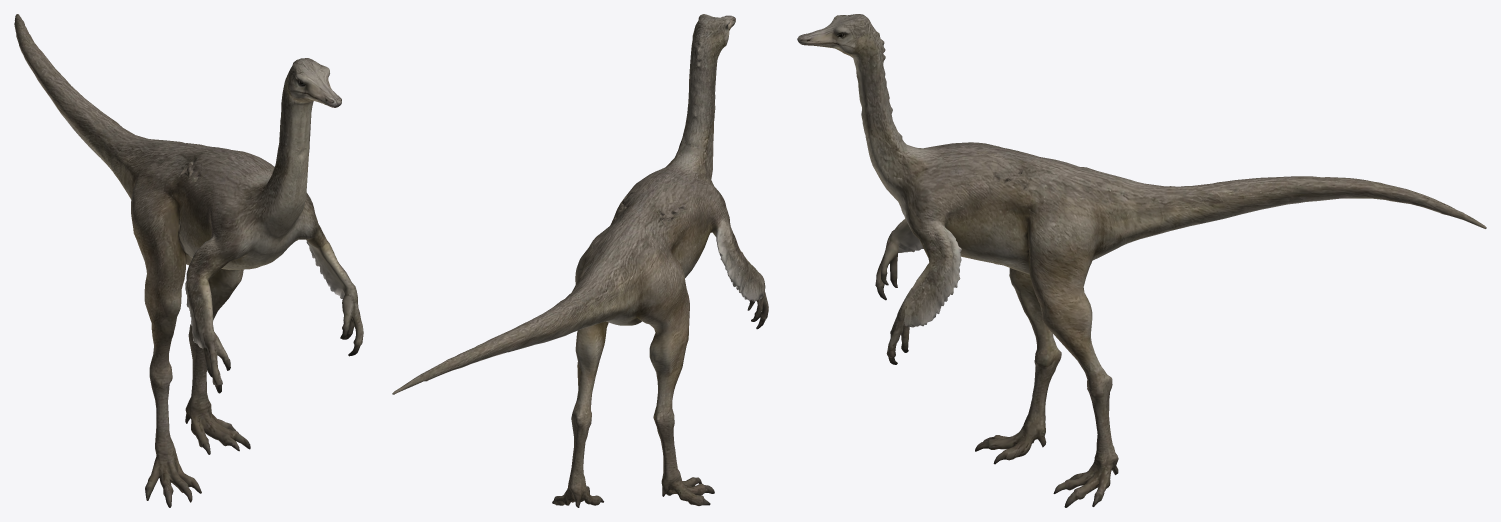
Rendered from gallimimus.glb.
3 renders of one model, left to right at view 1: azimuth 30°, elevation 25°; view 2: azimuth 150°, elevation 25°; view 3: azimuth 270°, elevation 25°, orthographic. The views are drawn at different scales.
Parts seen in each view (by area): view 1: dino; view 2: dino; view 3: dino.
Boxes of the visible parts, bbox=[...] form: dino: bbox=[14, 14, 363, 507]; dino: bbox=[392, 14, 768, 507]; dino: bbox=[797, 14, 1486, 507].
Size of the model in its own units: 1.58 by 4.49 by 6.
Materials: 1 (1 with a texture image).
